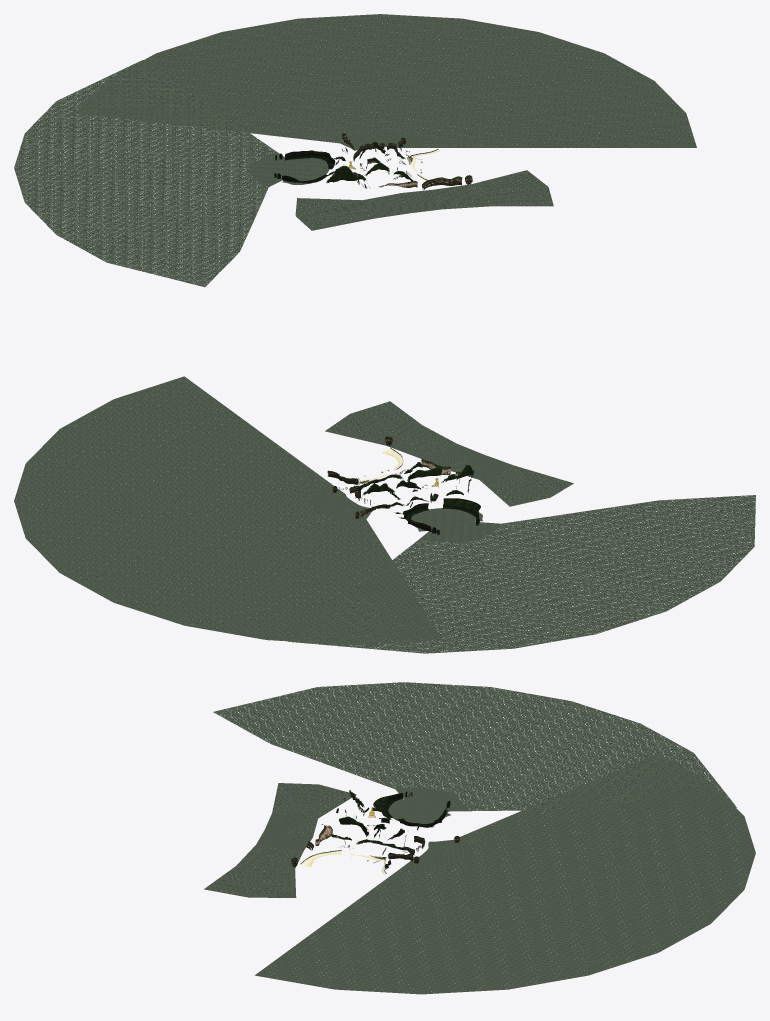
The model's file is track-AS_C3_V2_env.glb.
3 renders of one model, top to bottom at view 1: azimuth 30°, elevation 25°; view 2: azimuth 150°, elevation 25°; view 3: azimuth 270°, elevation 25°, orthographic. The views are drawn at different scales.
Parts seen in each view (by area): view 1: AS_C3_V2_env; view 2: AS_C3_V2_env; view 3: AS_C3_V2_env.
Part boxes in pixels (box(x1,y1,x2,y2)): AS_C3_V2_env: box(14, 14, 696, 287); AS_C3_V2_env: box(14, 376, 755, 653); AS_C3_V2_env: box(204, 682, 755, 994).
Bounding box in the file's own units: 14932 × 654 × 14423.
Materials: 46 (46 with a texture image).
